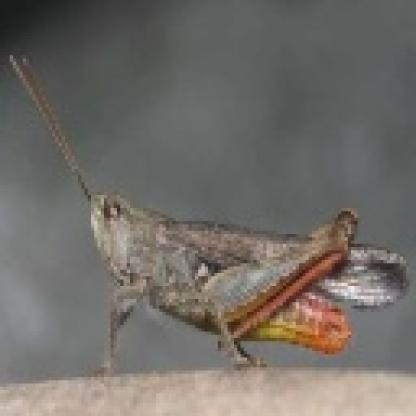grasshopper: (31, 118, 416, 373)
